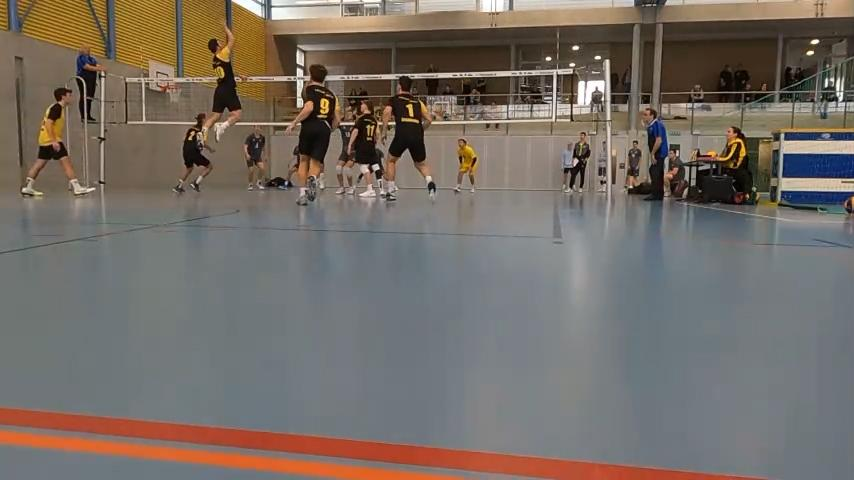attacco: (196, 16, 246, 150)
